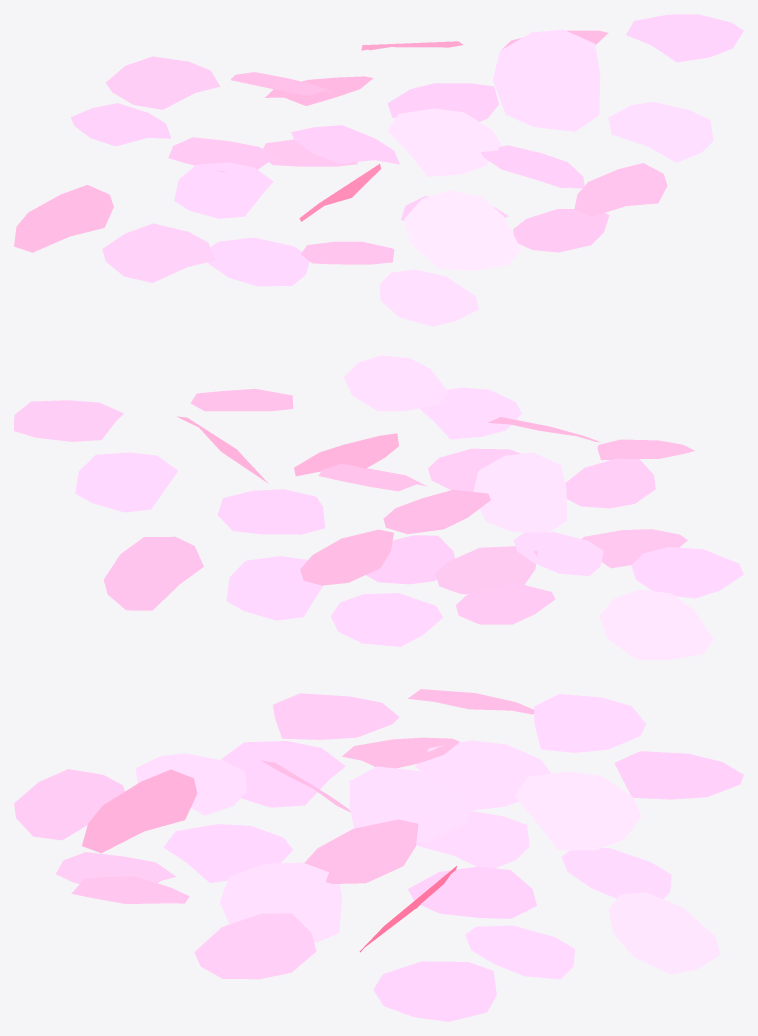
The model's file is flowers.glb.
The picture shows the model from 3 angles, top to bottom: view 1: azimuth 30°, elevation 25°; view 2: azimuth 150°, elevation 25°; view 3: azimuth 270°, elevation 25°; orthographic projection. The views are drawn at different scales.
Visible parts, largest first — view 1: foliage; view 2: foliage; view 3: foliage.
Boxes of the visible parts, x1,y1,x2,y2 form: foliage: (14, 14, 743, 326); foliage: (14, 355, 743, 660); foliage: (14, 689, 743, 1021).
Bounding box in the file's own units: 0.2977 × 0.0392 × 0.2303.
